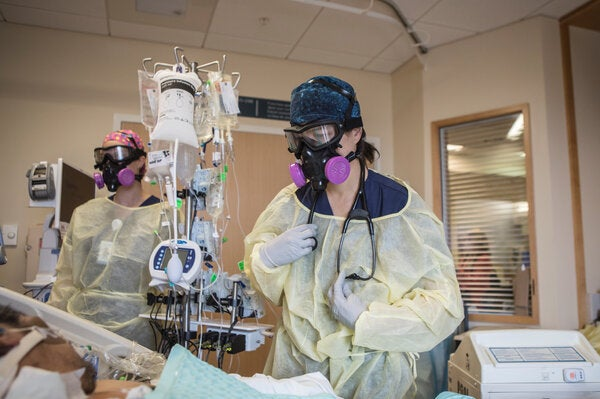Mask: (285, 143, 355, 196), (93, 159, 142, 192)
